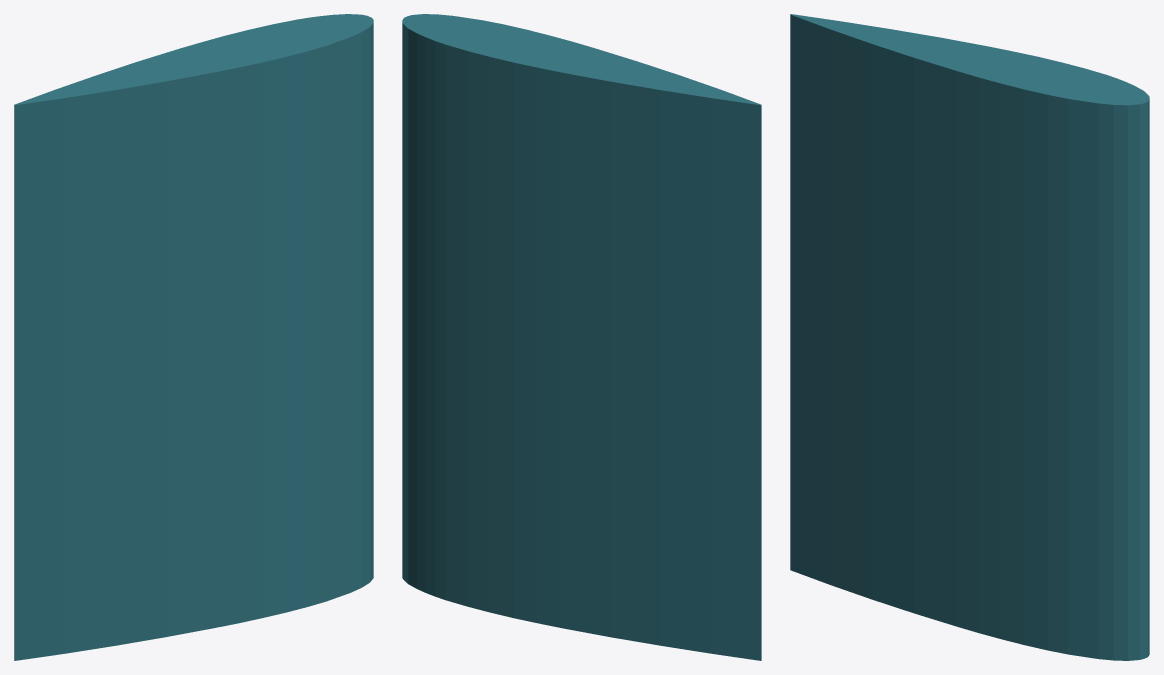
The model's file is rudder-blade-envelope.glb.
The picture shows the model from 3 angles, left to right: view 1: azimuth 30°, elevation 25°; view 2: azimuth 150°, elevation 25°; view 3: azimuth 330°, elevation 25°; orthographic projection.
Visible parts, largest first — view 1: rudder_blade_envelope; view 2: rudder_blade_envelope; view 3: rudder_blade_envelope.
Part boxes in pixels (x1,y1,x2,y2): rudder_blade_envelope: (14,14,373,660); rudder_blade_envelope: (402,14,761,660); rudder_blade_envelope: (790,14,1149,660).
Size of the model in its own units: 1.4 by 2.08 by 0.252.
